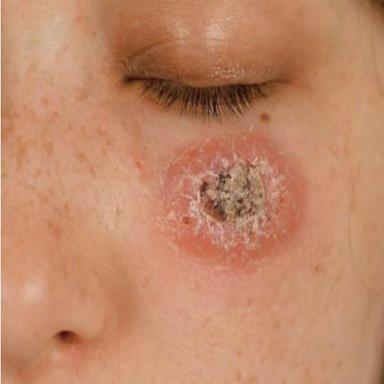Leishmanios: (157, 132, 303, 269)
